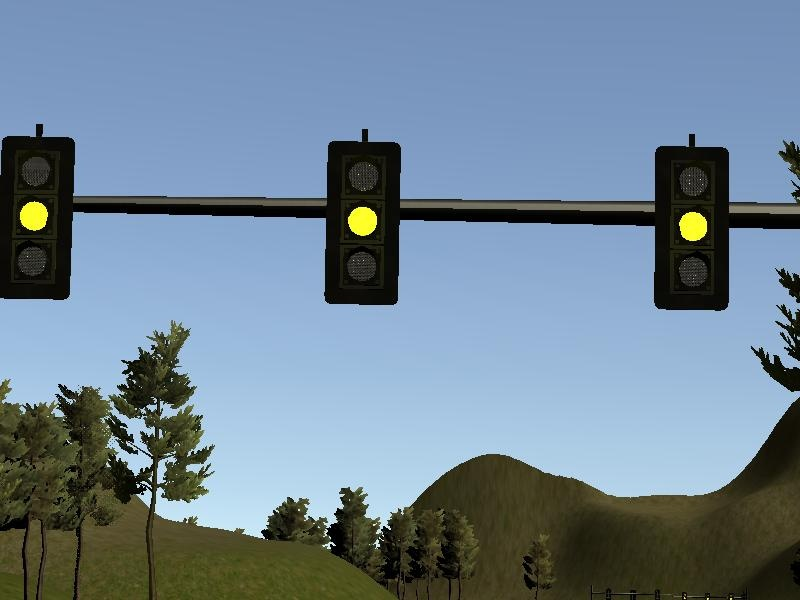YELLOW: (324, 137, 402, 309), (653, 139, 731, 311), (1, 136, 75, 301)
